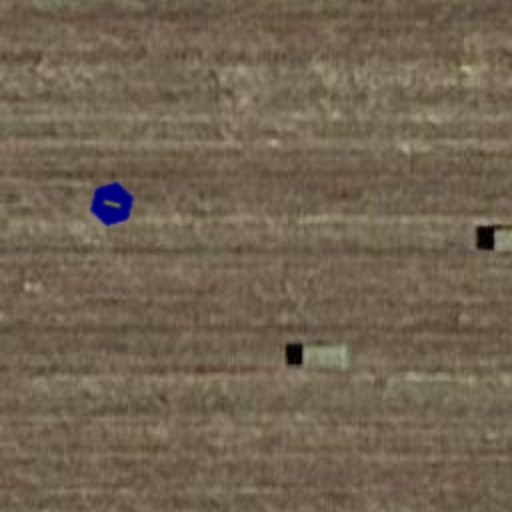hexagon: (84, 176, 140, 232)
